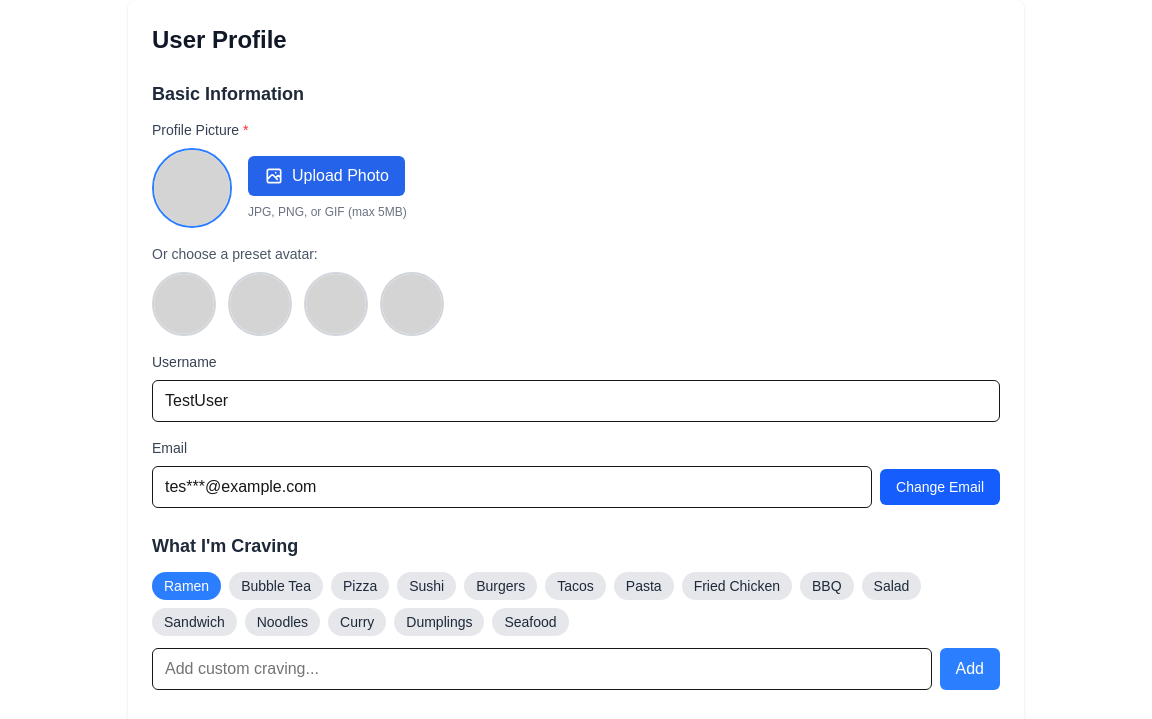
UserProfileForm › Email Verification Flow › validates verification code and updates email - step 3
The width and height of the screenshot is (1152, 719).
Note: Open modal and go through all steps
Click the button "Change Email" at [940, 487], box [880,469,1000,505]
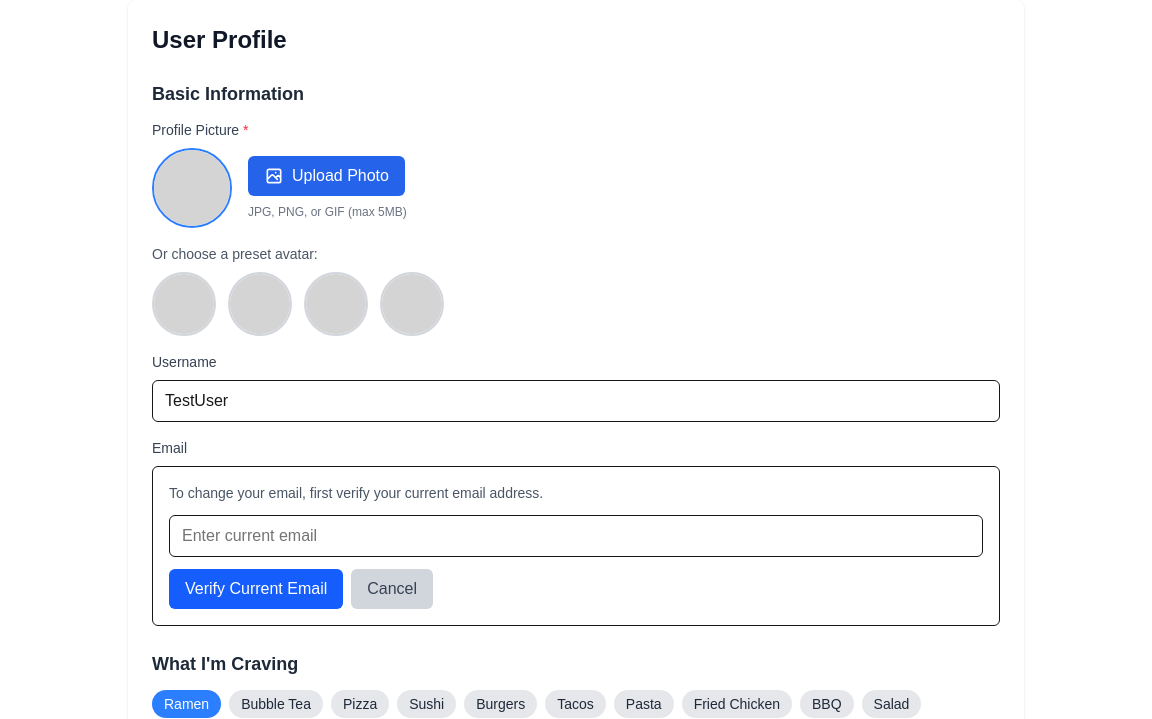
Type "test@example.com" into the field with placeholder "Enter current email" at [576, 536], box [169,515,983,557]
Click the button "Verify Current Email" at [256, 589], box [169,569,343,609]
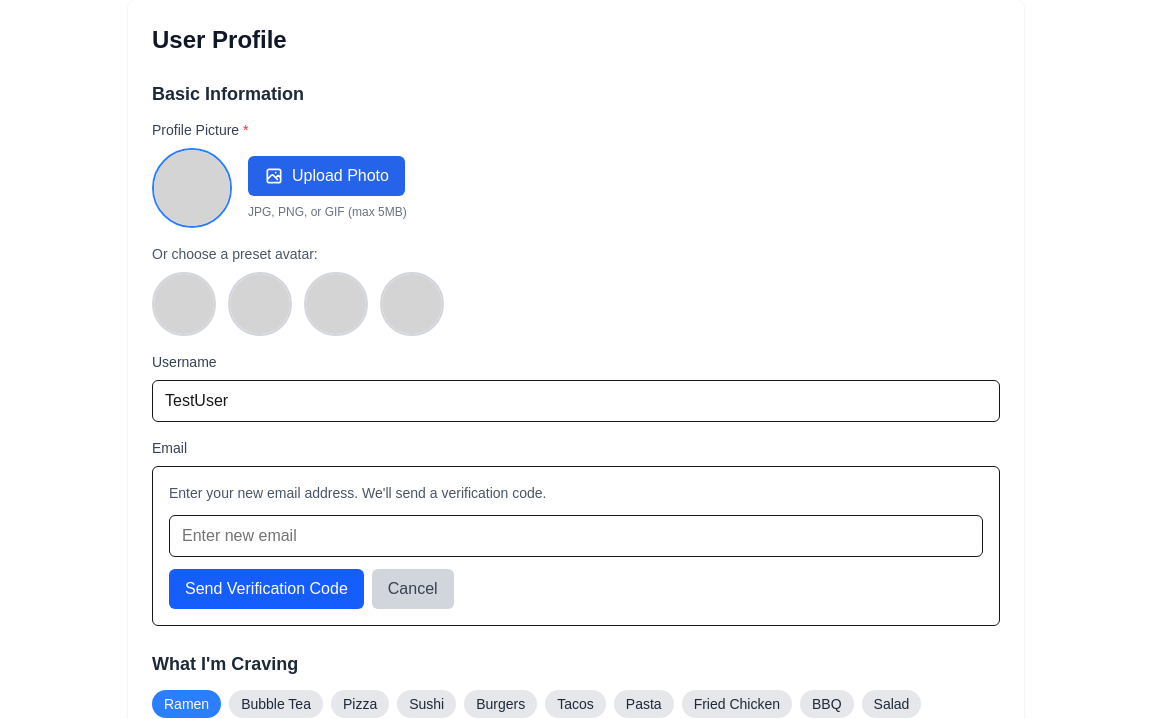
Check: the field with placeholder "Enter new email" is shown
Type "newemail@example.com" into the field with placeholder "Enter new email" at [576, 536], box [169,515,983,557]
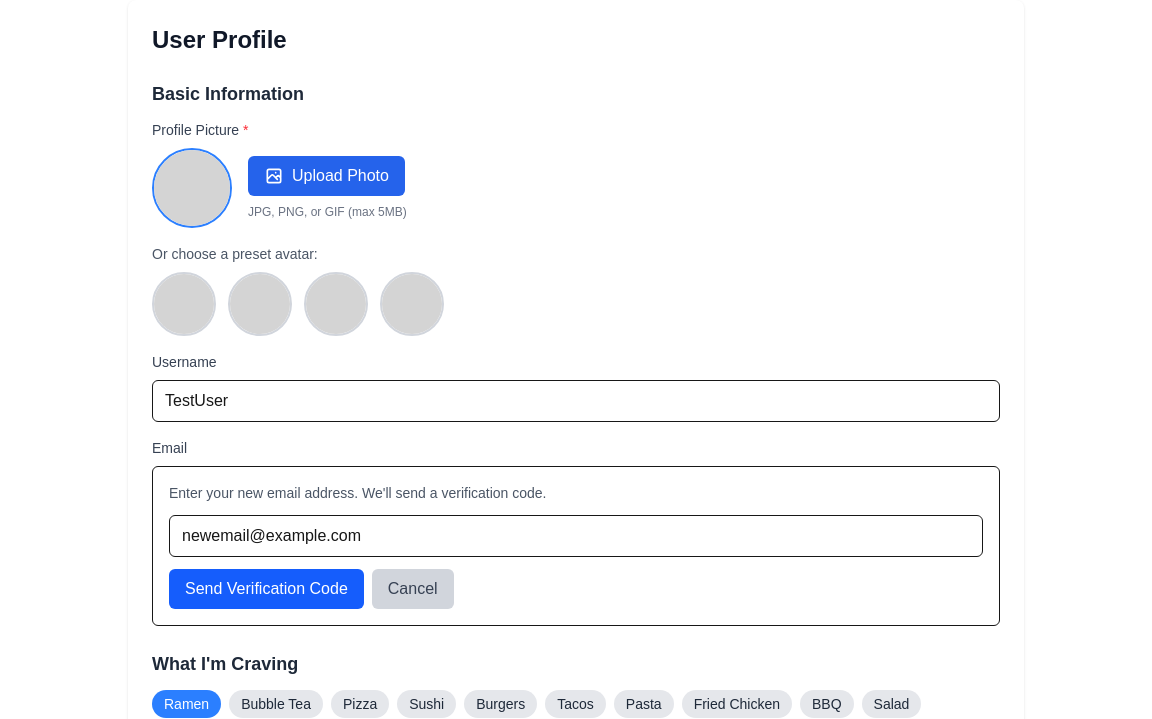
Click the button "Send Verification Code" at [266, 589], box [169,569,364,609]
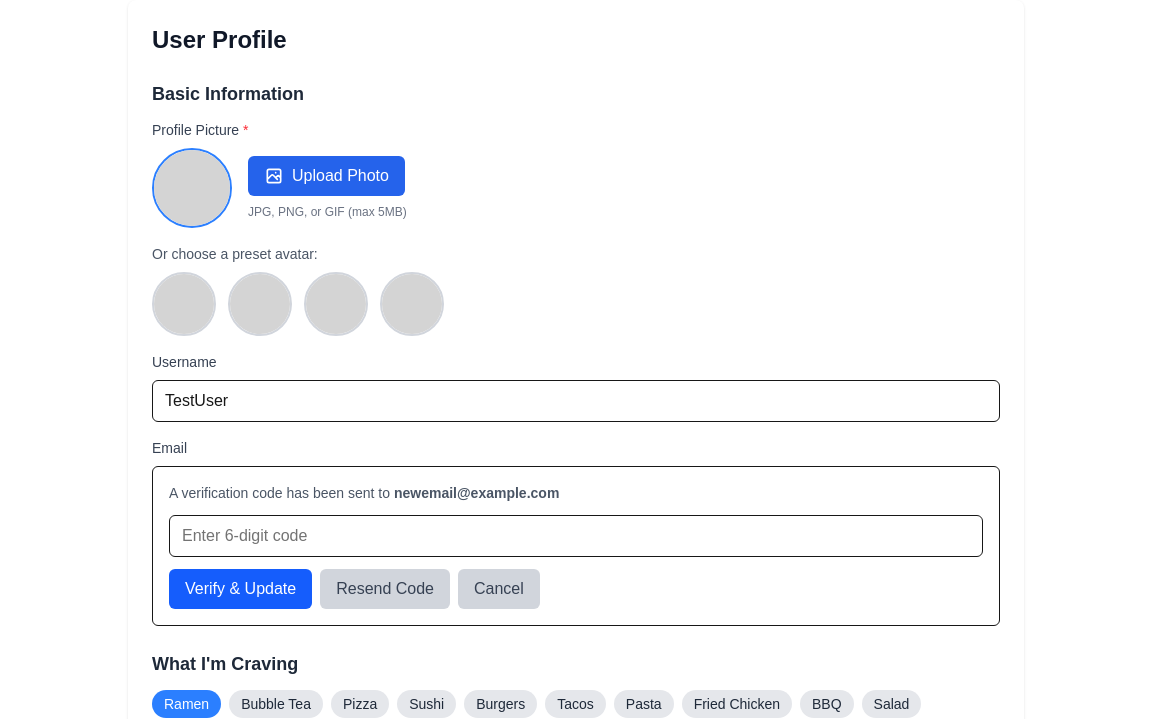
Check: the field with placeholder "Enter 6-digit code" is shown
Type "123456" into the field with placeholder "Enter 6-digit code" at [576, 536], box [169,515,983,557]
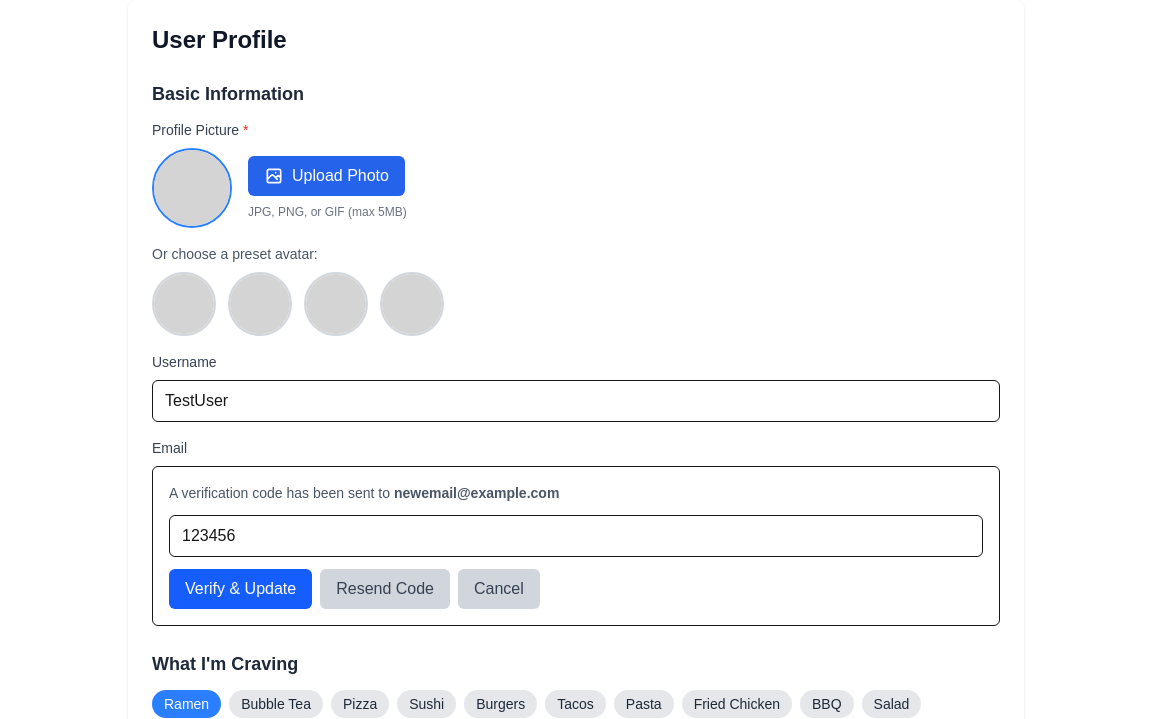
Click the button "Verify & Update" at [241, 589], box [169,569,312,609]
(page scrolled)
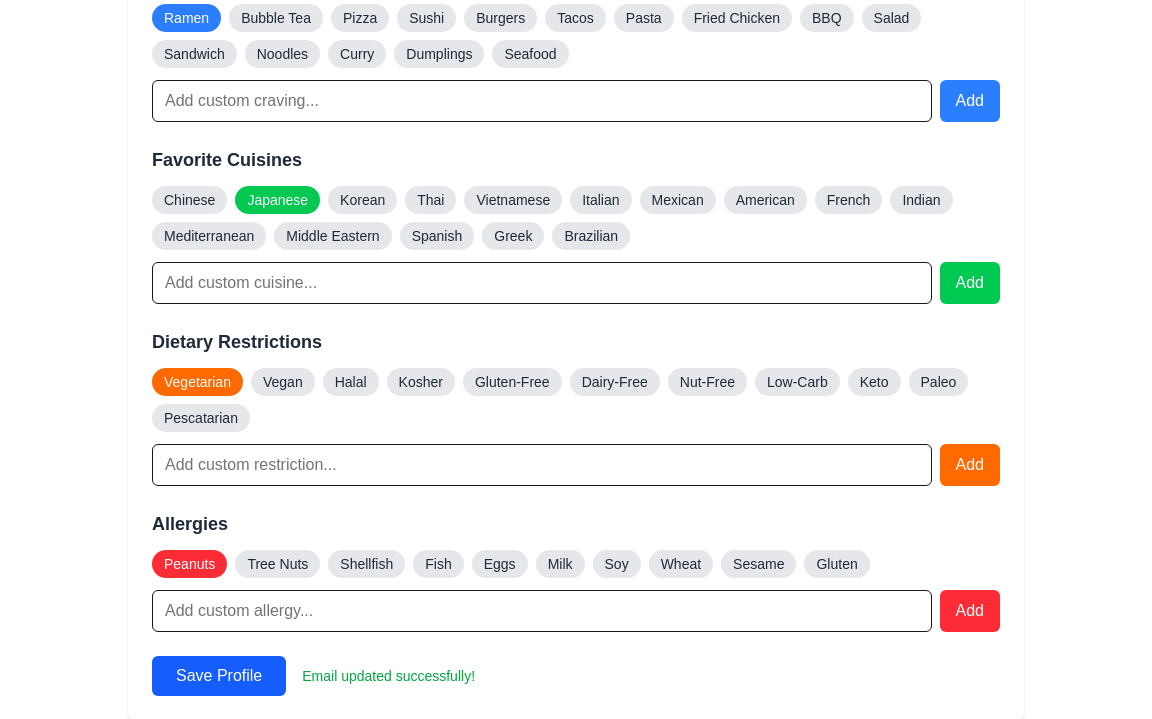
Check: the text "Email updated successfully!" is shown, box [302,666,475,686]
